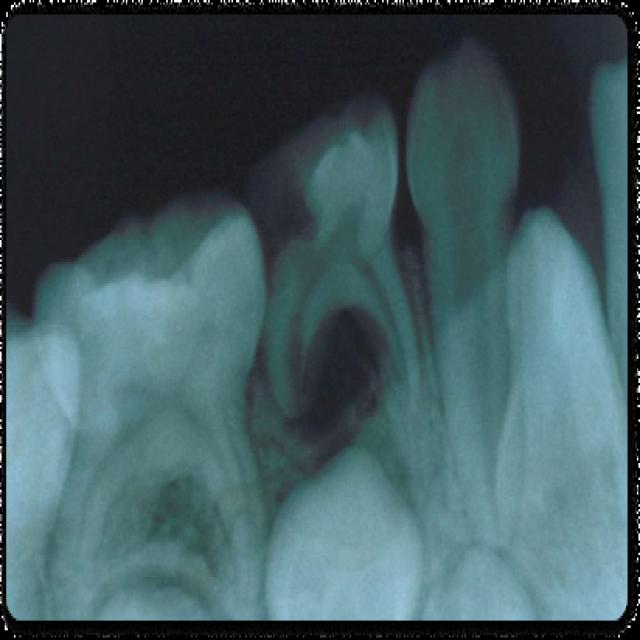Caries: (240, 92, 406, 556)
